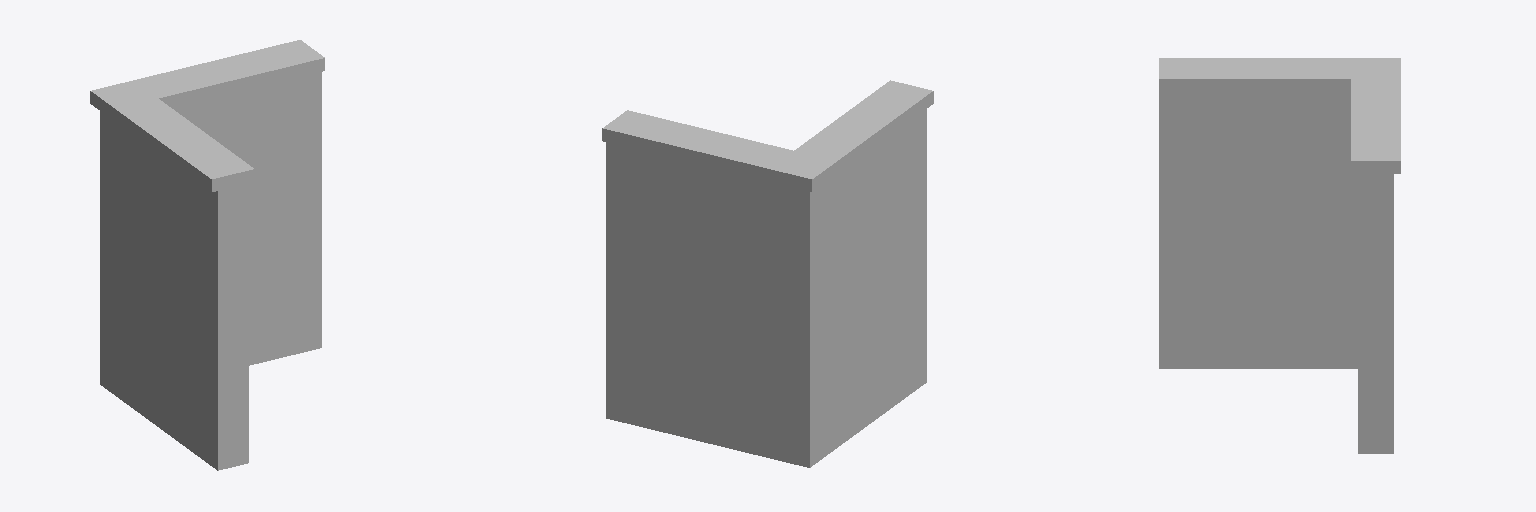
Rendered from Wall_Curver_90.obj.
3 views of the same model, side by side, from view 1: azimuth 30°, elevation 25°; view 2: azimuth 150°, elevation 25°; view 3: azimuth 270°, elevation 25° (orthographic).
Visible parts, largest first — view 1: Wall_corner_1; view 2: Wall_corner_1; view 3: Wall_corner_1.
Part boxes in pixels (bbox=[...]): Wall_corner_1: bbox=[90, 40, 324, 470]; Wall_corner_1: bbox=[602, 80, 933, 467]; Wall_corner_1: bbox=[1159, 58, 1400, 453].
Bounding box in the file's own units: 2.25 × 2.99 × 2.25.